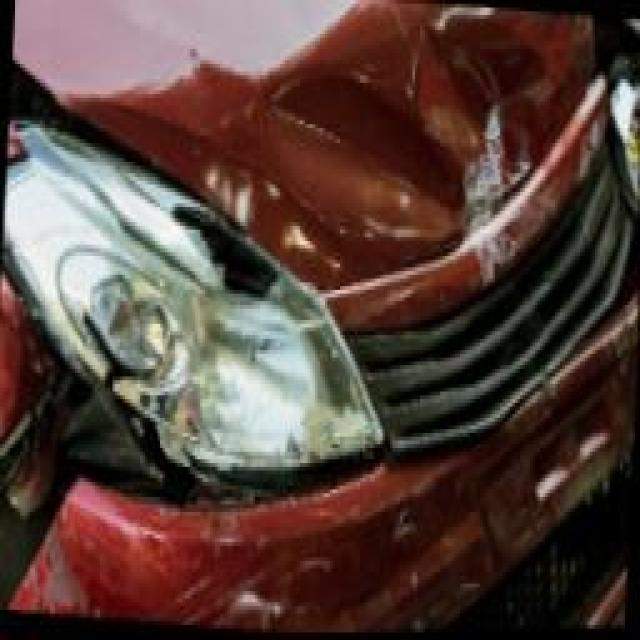Bonnet: (12, 0, 603, 291)
Bumper: (0, 276, 639, 635)
Light: (0, 111, 383, 512)
